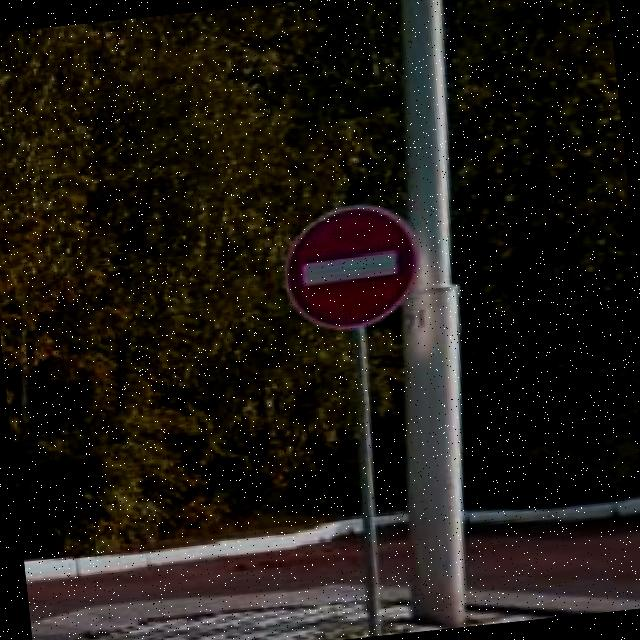Zakaz wjazdu: (276, 196, 426, 336)
